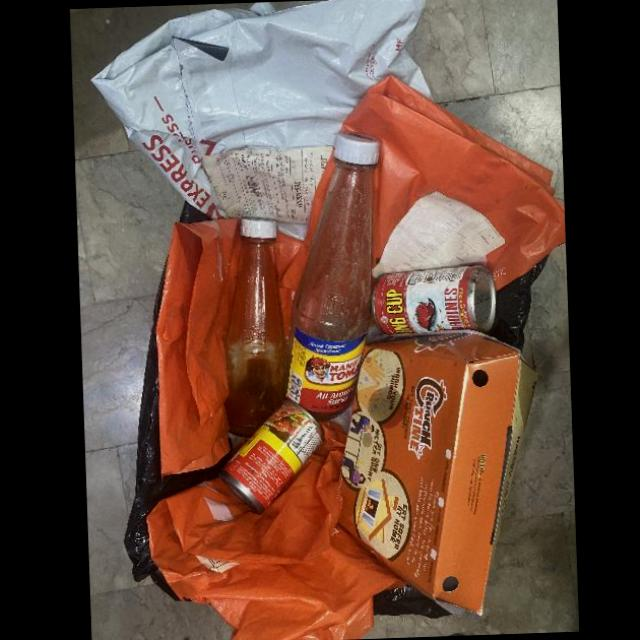carton: (339, 328, 537, 614)
chai_thuy_tinh: (283, 132, 379, 420), (224, 218, 289, 438)
nhom: (217, 399, 324, 514), (370, 265, 495, 334)
tui_ni_long: (89, 0, 431, 241), (146, 421, 404, 640), (340, 75, 565, 291), (155, 218, 307, 476), (285, 153, 335, 291)
